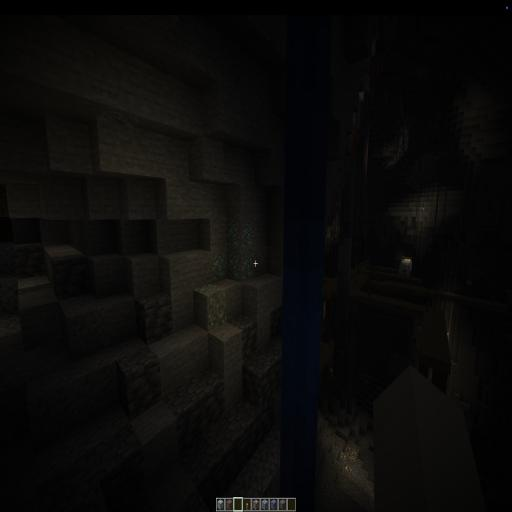diamond ore: (211, 220, 258, 283)
gold ore: (338, 450, 346, 462), (346, 465, 353, 474)
iron ore: (346, 445, 358, 461)
